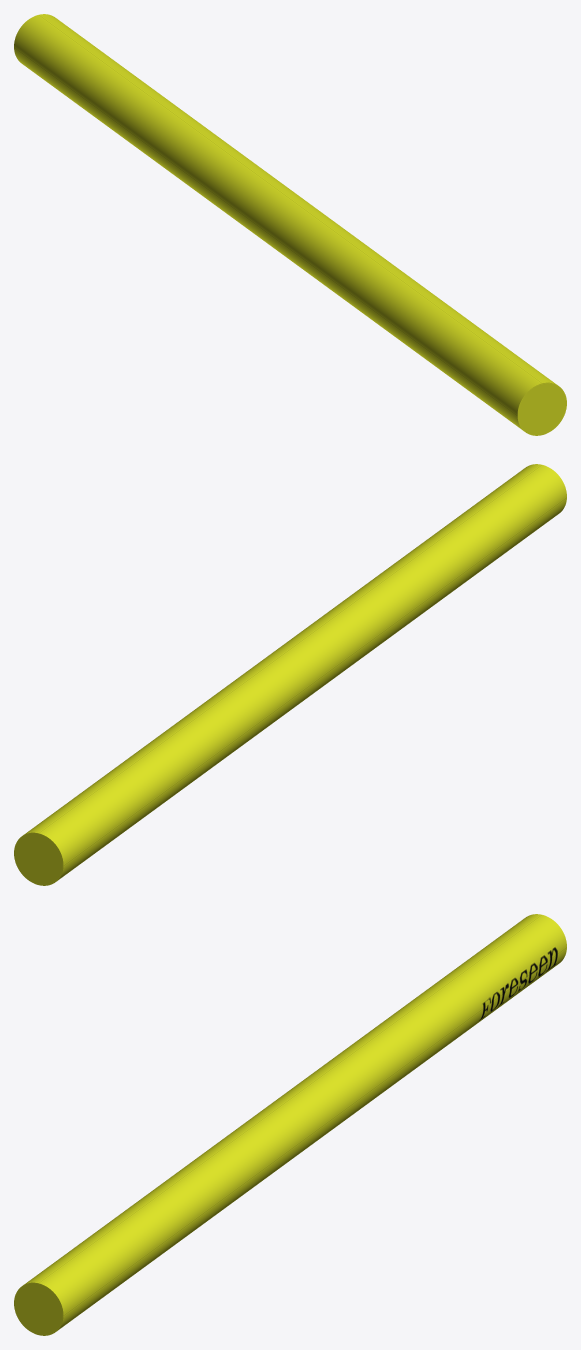
The model's file is Asset11.gltf.
The picture shows the model from 3 angles, top to bottom: view 1: azimuth 30°, elevation 25°; view 2: azimuth 150°, elevation 25°; view 3: azimuth 330°, elevation 25°; orthographic projection.
Bounding box in the file's own units: 0.0258 × 0.0258 × 0.4559.
Materials: 1 (1 with a texture image).
